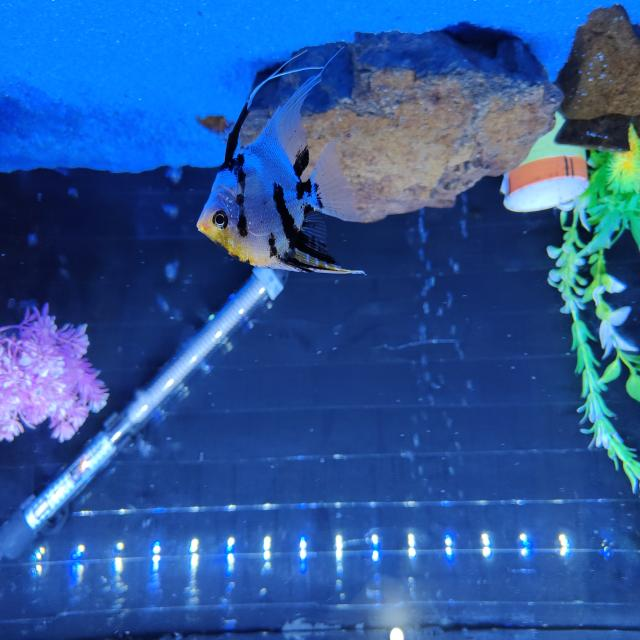Fish: (197, 48, 362, 272)
